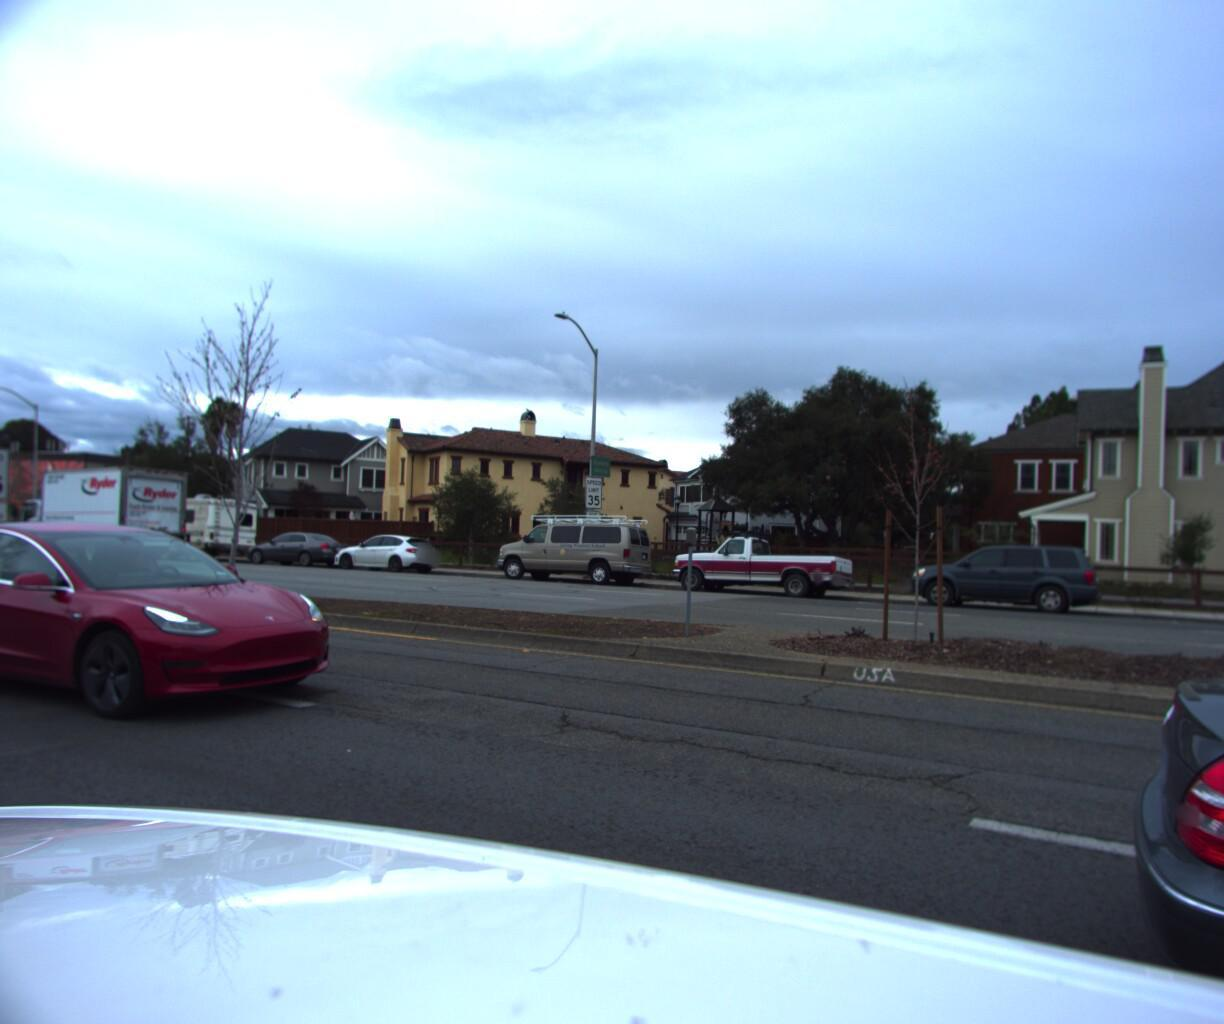car: (892, 535, 1108, 619), (657, 524, 861, 603), (480, 510, 662, 589), (322, 531, 449, 580), (231, 532, 355, 573)
other_vehicle: (84, 490, 270, 566)
truck: (7, 469, 205, 571)
